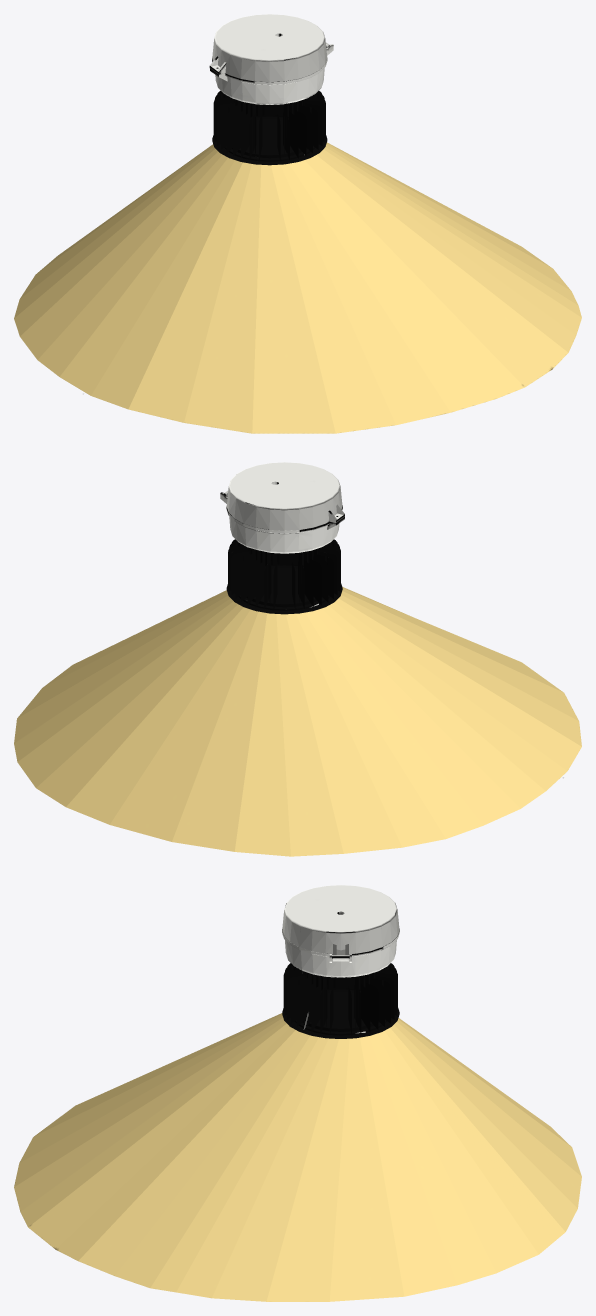
Rendered from VMVLtype-5.obj.
3 renders of one model, top to bottom at view 1: azimuth 30°, elevation 25°; view 2: azimuth 150°, elevation 25°; view 3: azimuth 270°, elevation 25°, orthographic.
Parts seen in each view (by area): view 1: Cylinder, VMV7L2HA_UNV1_; view 2: Cylinder, VMV7L2HA_UNV1_; view 3: Cylinder, VMV7L2HA_UNV1_.
Part boxes in pixels (box(x1,y1,x2,y2)): Cylinder: box(14, 142, 581, 433); VMV7L2HA_UNV1_: box(209, 14, 333, 165); Cylinder: box(14, 587, 581, 856); VMV7L2HA_UNV1_: box(220, 462, 344, 614); Cylinder: box(14, 1013, 581, 1301); VMV7L2HA_UNV1_: box(282, 885, 399, 1038).
Size of the model in its own units: 48.88 by 25.87 by 48.91.
3 materials, 2 textured.
